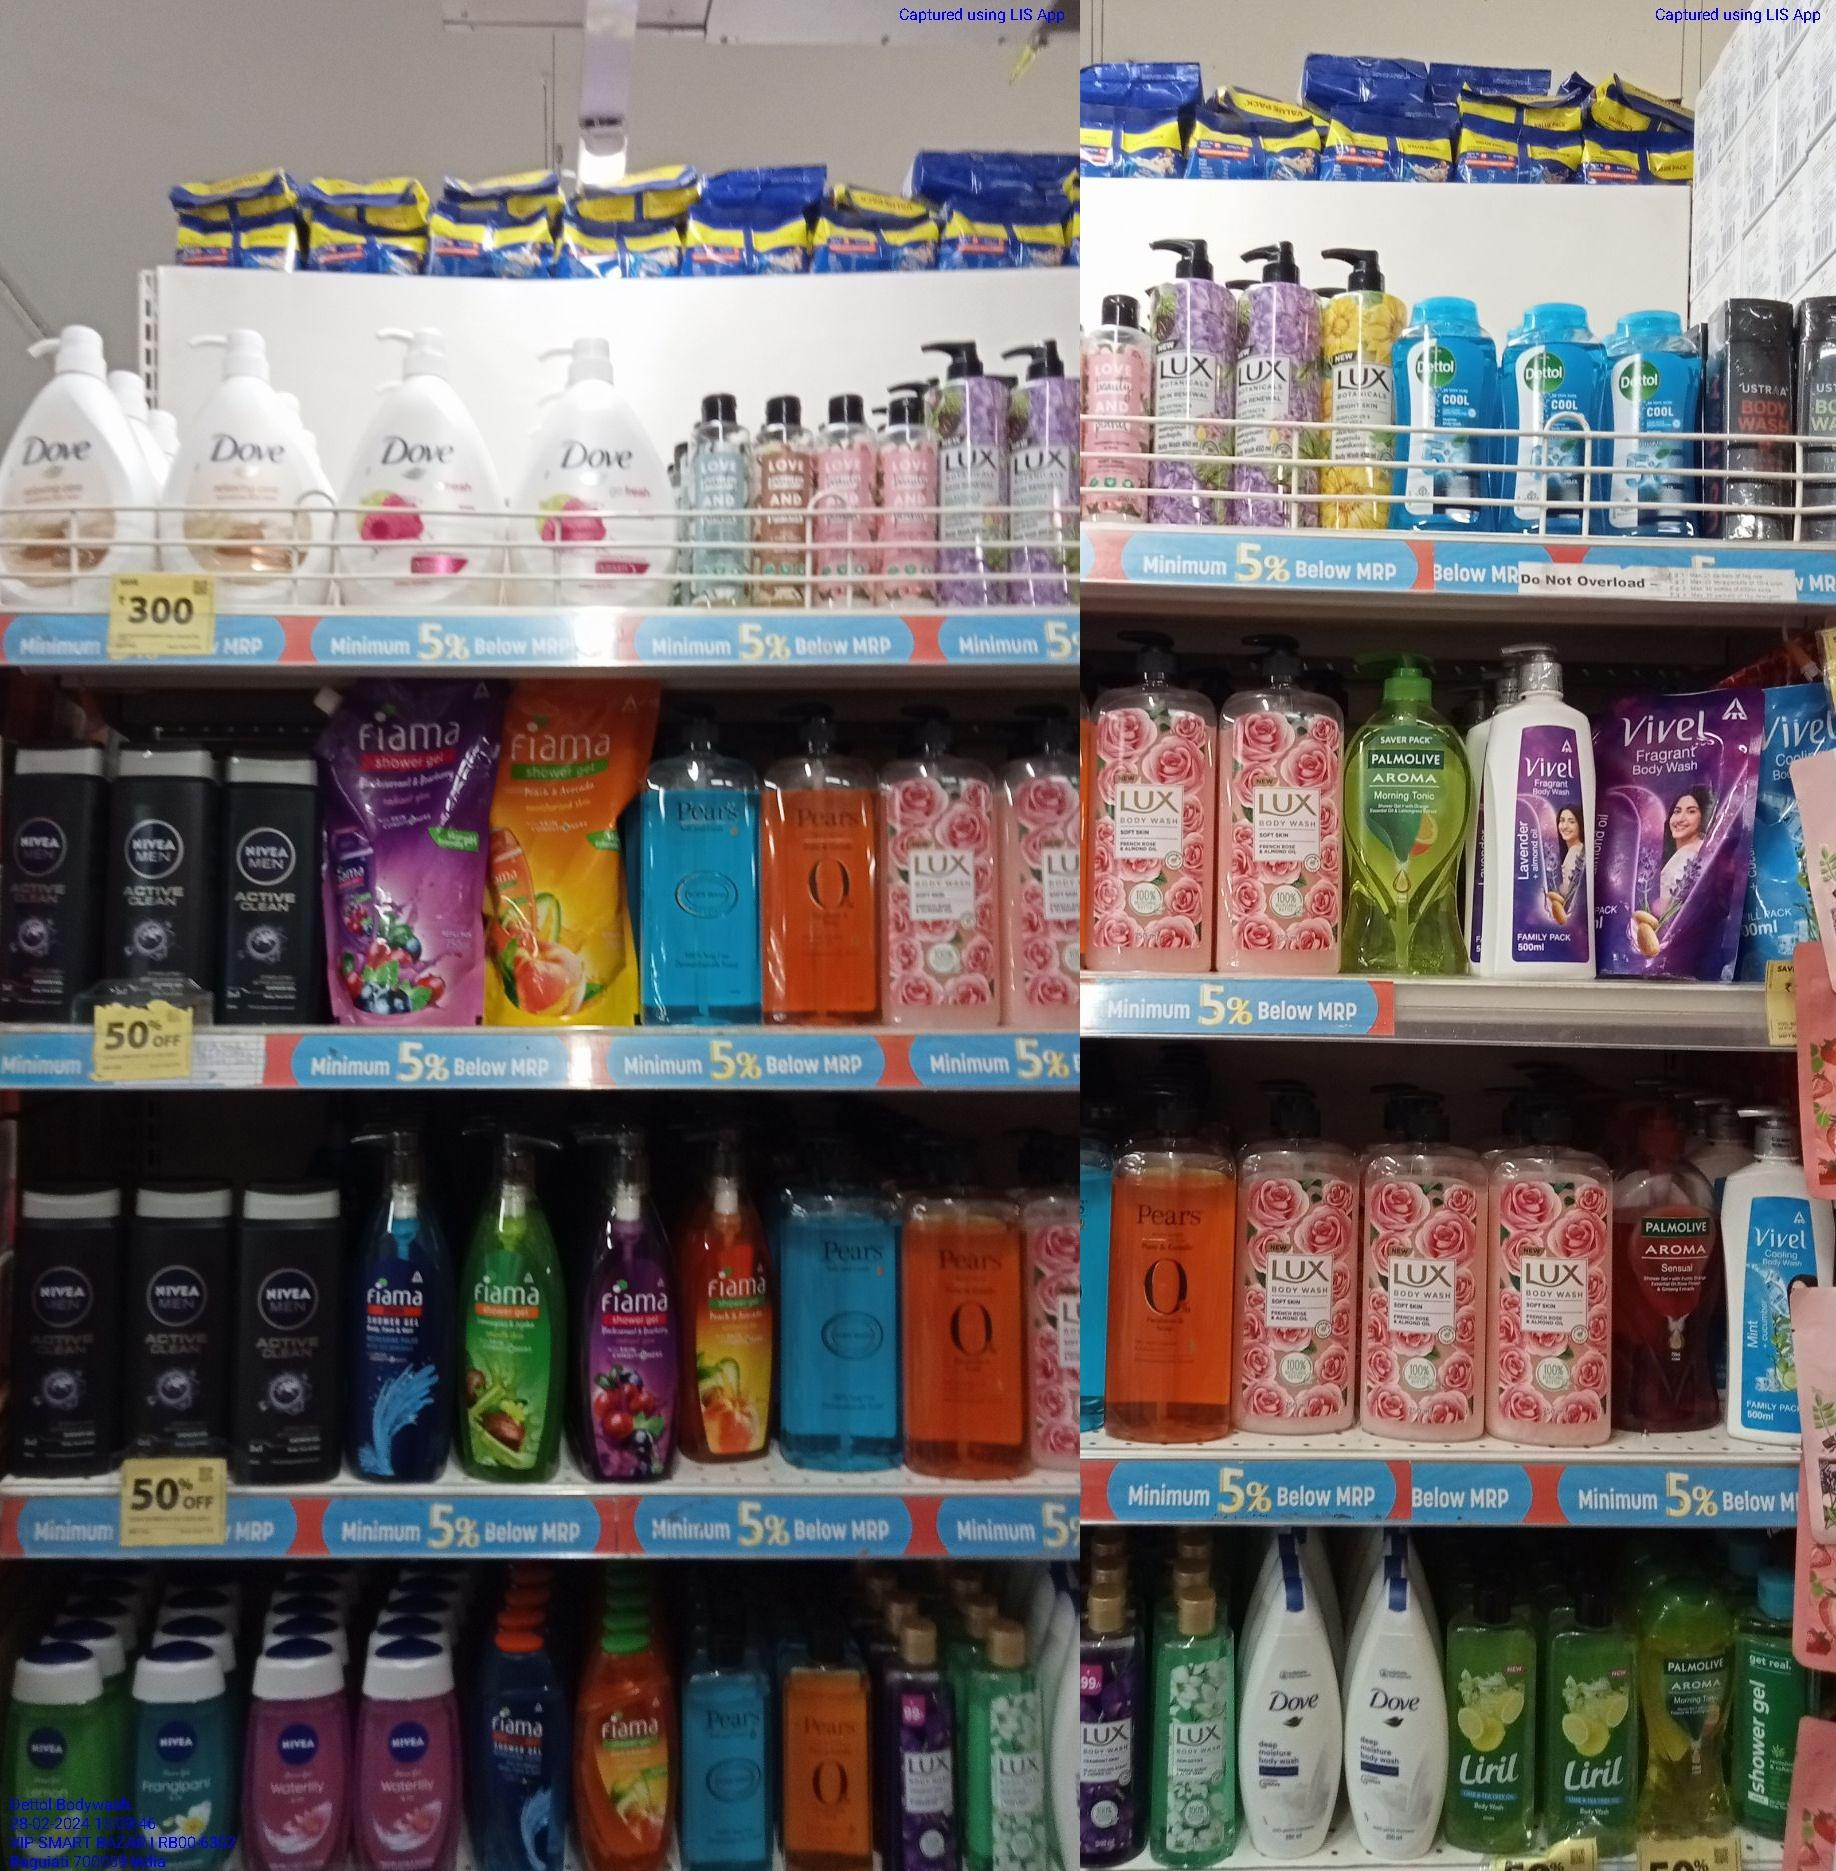Dettol_Bodywash_Cool: (1394, 296, 1498, 533), (1505, 298, 1601, 536), (1607, 306, 1700, 541)
Dove_Deep_Moisture_Body_Wash_250ML: (1347, 1578, 1443, 1863), (1249, 1584, 1340, 1861)
Fiama_Shower_Gel_Peach_and_Avocado_250ML: (582, 1636, 676, 1871)
Liril_Lime_and_Tea_Tree_Oil_Body_Wash_250ML: (1547, 1585, 1641, 1858), (1448, 1587, 1533, 1854)
Lux_Black_Orchid_Scent_and_Juniper_Oil_Body_Wash_245ML: (884, 1619, 965, 1871), (1081, 1592, 1145, 1869)
Lux_Body_Wash_Skin_Detox_Freesia_Scent_and_Alove_Vera_245ML: (1157, 1587, 1236, 1871), (972, 1632, 1054, 1871)
Nivea_Shower_Gel_Frangipani_and_Oil_250ML: (123, 1652, 235, 1871)
Nivea_Shower_Gel_Lemon_and_Oil_250ML: (3, 1652, 109, 1871)
Nivea_Shower_Gel_Waterlily_and_Oil_250ML: (360, 1634, 466, 1871), (251, 1647, 350, 1871)
Palmolive_Aroma_Morning_Tonic_Shower_Gel_250ML: (1643, 1585, 1745, 1844)
Pears_Pure_Glycerin_and_Mint_Extracts_Body_Wash_250ML: (678, 1647, 775, 1871)
